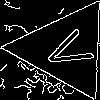V: (40, 24, 100, 75)
